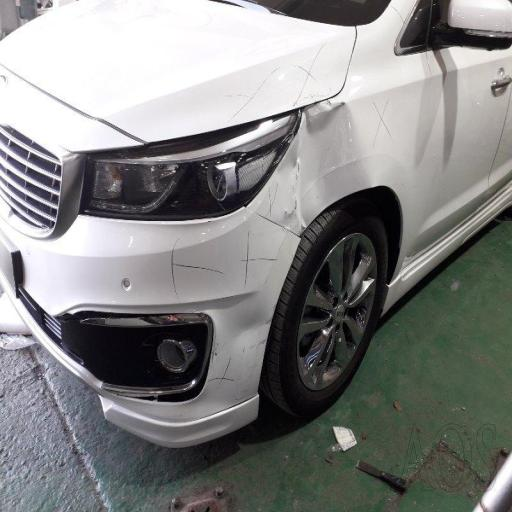dent: (130, 63, 404, 233)
